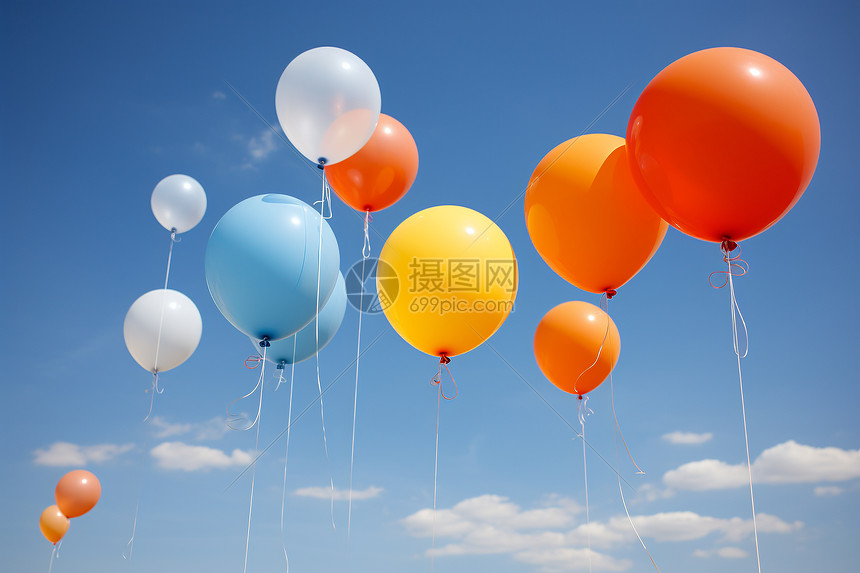balloon: (626, 48, 820, 247), (205, 193, 339, 372), (524, 134, 667, 296), (377, 205, 517, 356), (275, 47, 380, 164), (325, 114, 418, 211), (533, 301, 620, 398), (267, 274, 346, 368), (124, 289, 201, 371), (151, 174, 206, 233), (55, 470, 100, 517), (39, 505, 69, 544)
